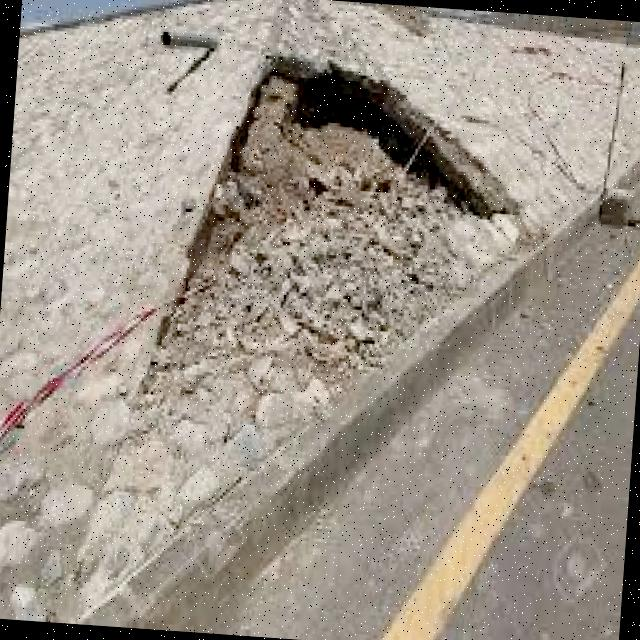curb: (123, 189, 610, 634), (590, 130, 640, 227)
